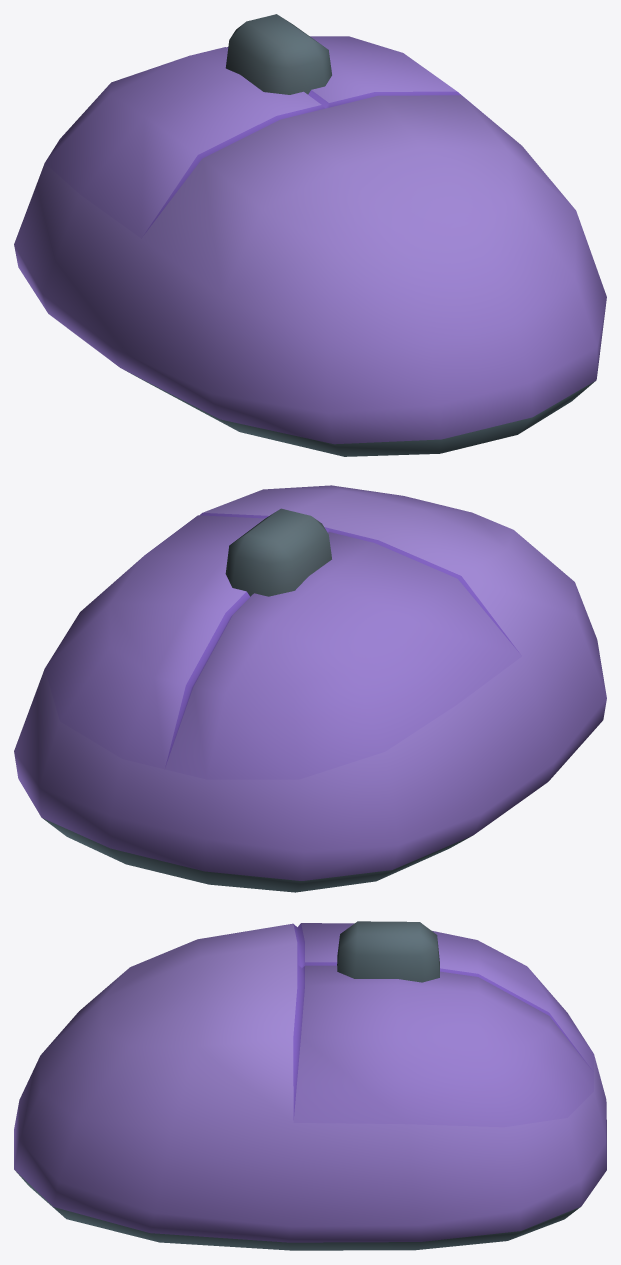
Rendered from Mouse_01.glb.
The picture shows the model from 3 angles, top to bottom: view 1: azimuth 30°, elevation 25°; view 2: azimuth 150°, elevation 25°; view 3: azimuth 270°, elevation 25°; orthographic projection. The views are drawn at different scales.
Visible parts, largest first — view 1: Mouse_01; view 2: Mouse_01; view 3: Mouse_01.
Boxes of the visible parts, <box> form: Mouse_01: <box>14,14,606,456</box>; Mouse_01: <box>14,485,606,892</box>; Mouse_01: <box>14,921,606,1250</box>.
Bounding box in the file's own units: 0.1195 × 0.0692 × 0.1541.
1 material, 1 textured.
